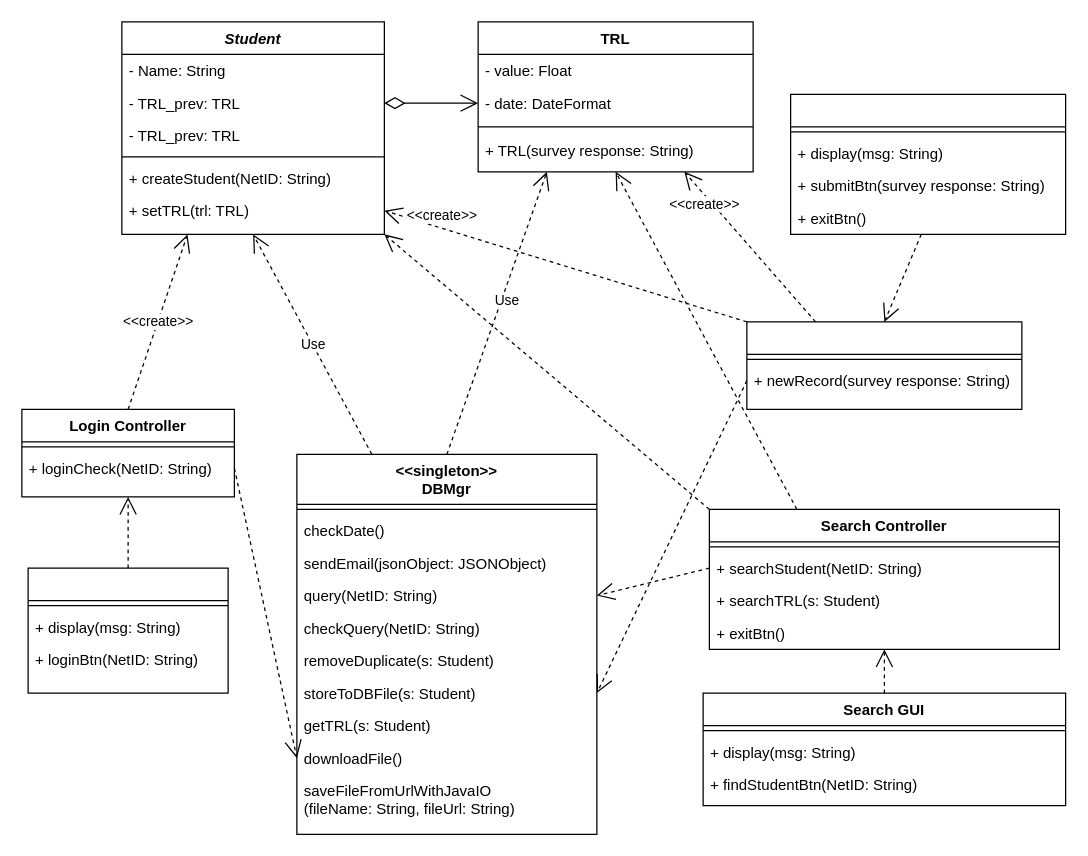
Some shapes in this 1088 by 856 pixel diagram are drawn without their labels. The box of each missing label's shape, as (x1, y1, x2, y2) in pixels:
Login GUI: (27, 567, 228, 693)
Submit Controller: (746, 321, 1022, 409)
Survey GUI: (789, 93, 1066, 234)
